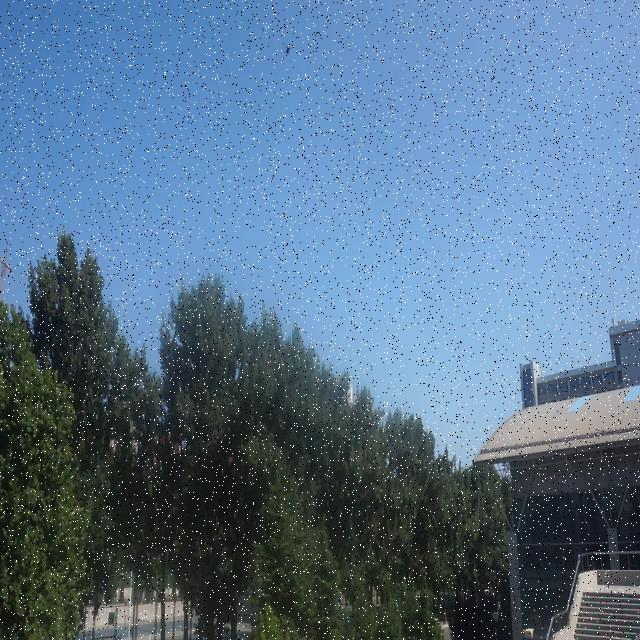UAV: (284, 44, 292, 55)
